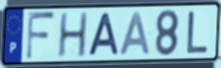8: (155, 8, 181, 58)
A: (86, 12, 121, 57), (118, 11, 151, 57)
F: (25, 10, 57, 62)
H: (56, 11, 89, 59)
L: (185, 10, 210, 55)
